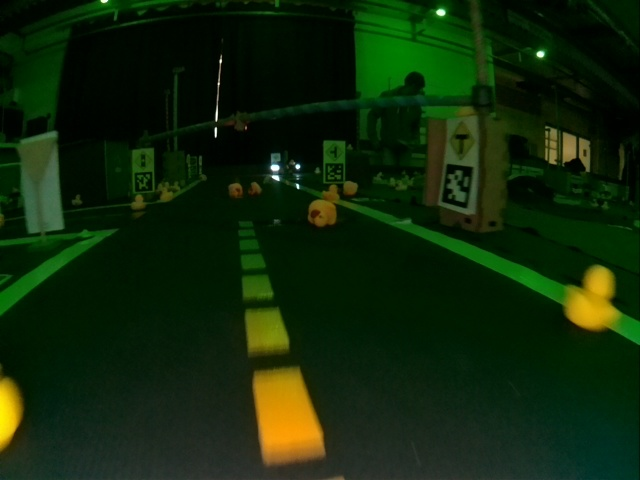Duckie: (562, 266, 621, 332), (307, 199, 337, 228), (131, 195, 145, 210), (326, 185, 339, 200), (228, 184, 243, 197), (248, 182, 261, 195), (343, 182, 357, 194), (160, 190, 172, 200), (72, 195, 82, 206)
Intersection sign: (449, 121, 477, 160), (325, 143, 343, 160)
QR code: (438, 164, 473, 209), (134, 172, 153, 192), (324, 163, 344, 181)
Signal sign: (133, 150, 152, 169)
